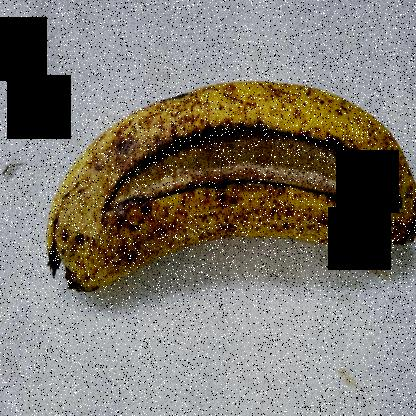rotten: (82, 76, 404, 232)
